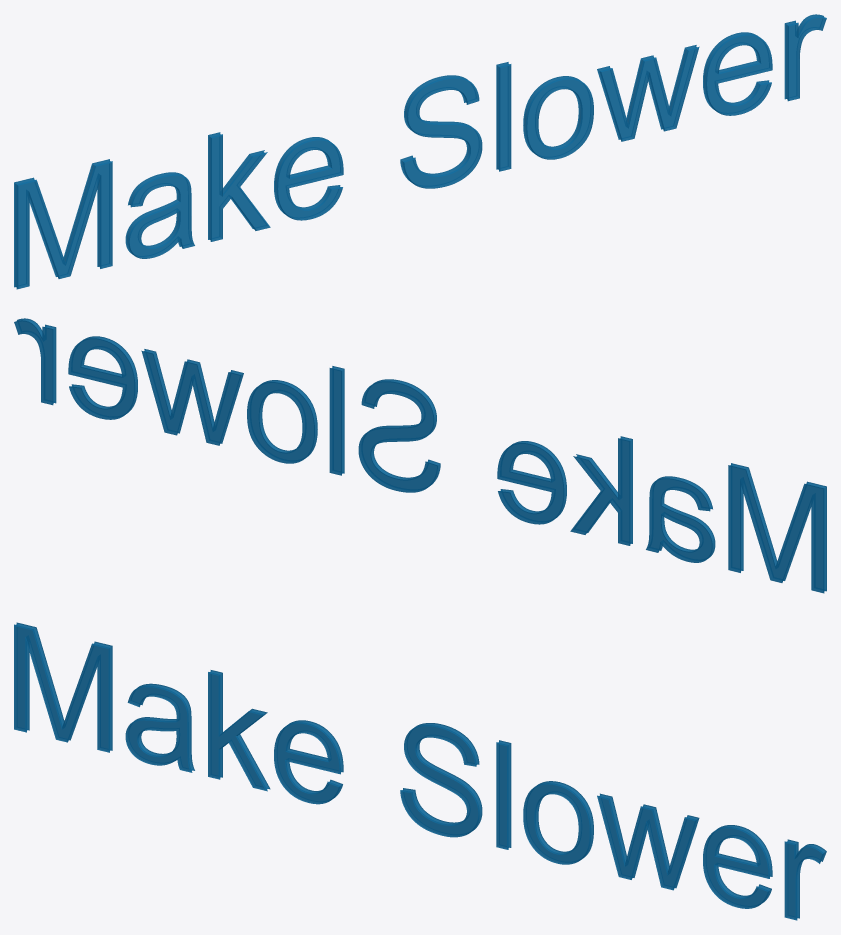
File: make_slower 1.FBX
The picture shows the model from 3 angles, top to bottom: view 1: azimuth 30°, elevation 25°; view 2: azimuth 150°, elevation 25°; view 3: azimuth 330°, elevation 25°; orthographic projection.
Parts seen in each view (by area): view 1: make_slower; view 2: make_slower; view 3: make_slower.
Part boxes in pixels (bbox=[...]): make_slower: bbox=[14, 14, 826, 289]; make_slower: bbox=[14, 318, 826, 593]; make_slower: bbox=[14, 622, 826, 920].
Size of the model in its own units: 32.77 by 4.2 by 0.2288.
